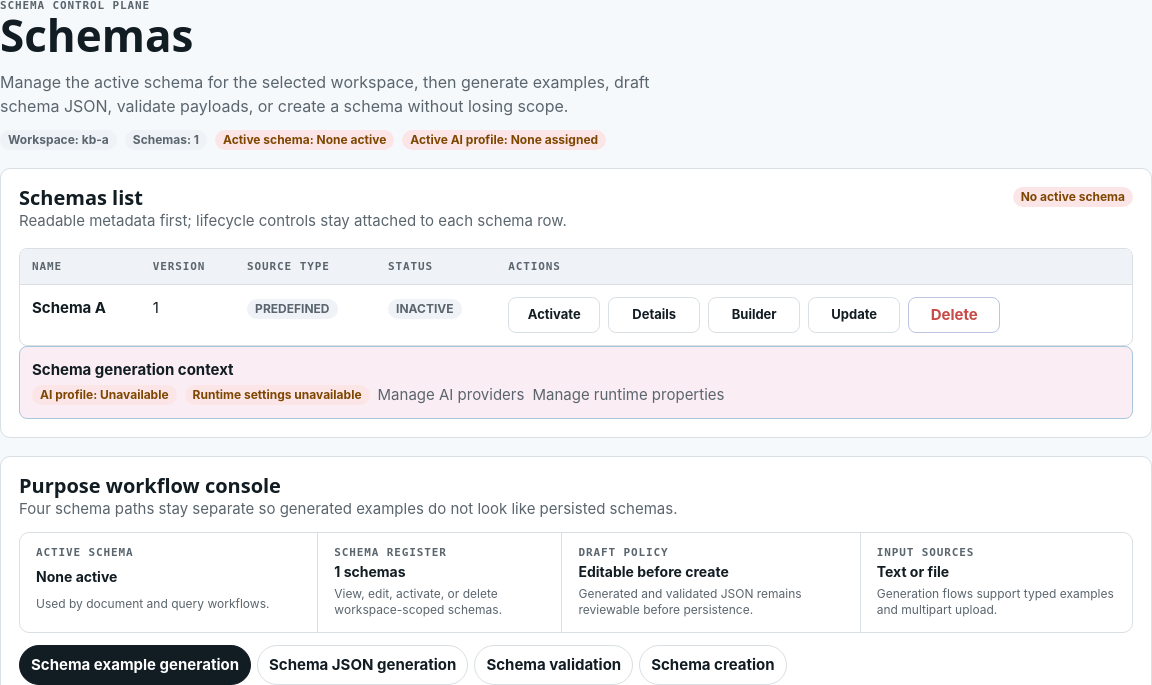
Test: schemas page › shows pending indicator and prevents duplicate activate clicks while request is in flight
Click the button "Activate" at coordinates (554, 315), box x1=508 y1=297 x2=600 y2=333
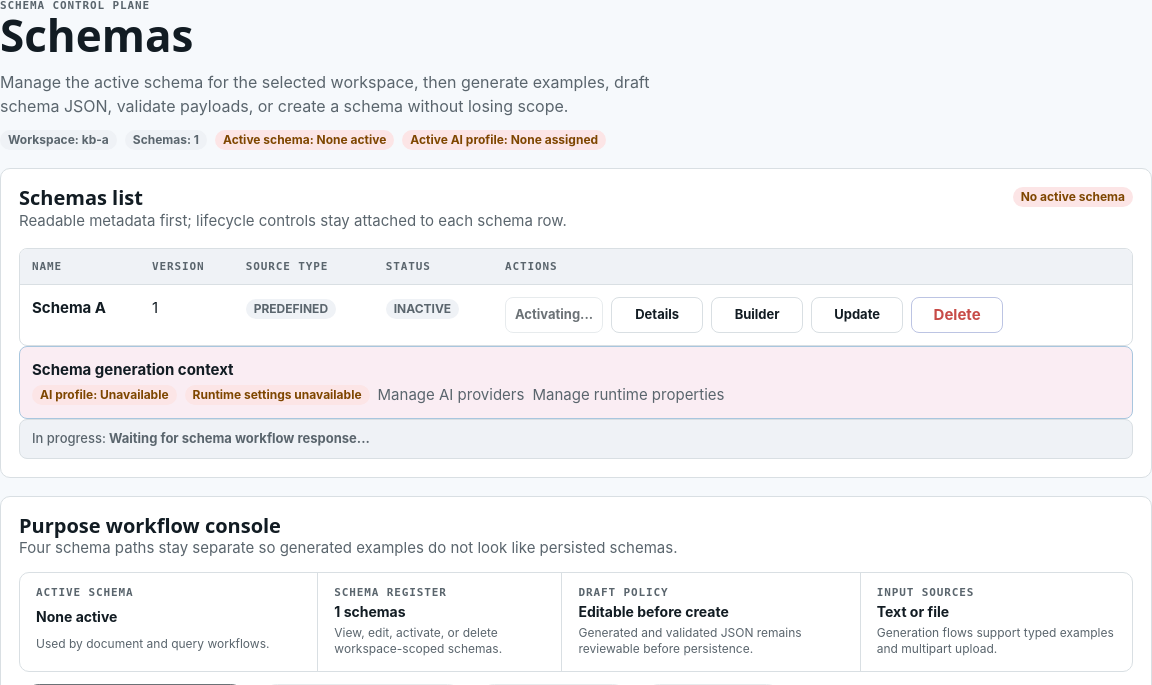
Now the text "In progress: Waiting for schema workflow response..." is shown, box x1=19 y1=419 x2=1133 y2=459
Now the button "Activating..." is disabled
Click the button "Activating..." at coordinates (554, 315), box x1=505 y1=297 x2=603 y2=333
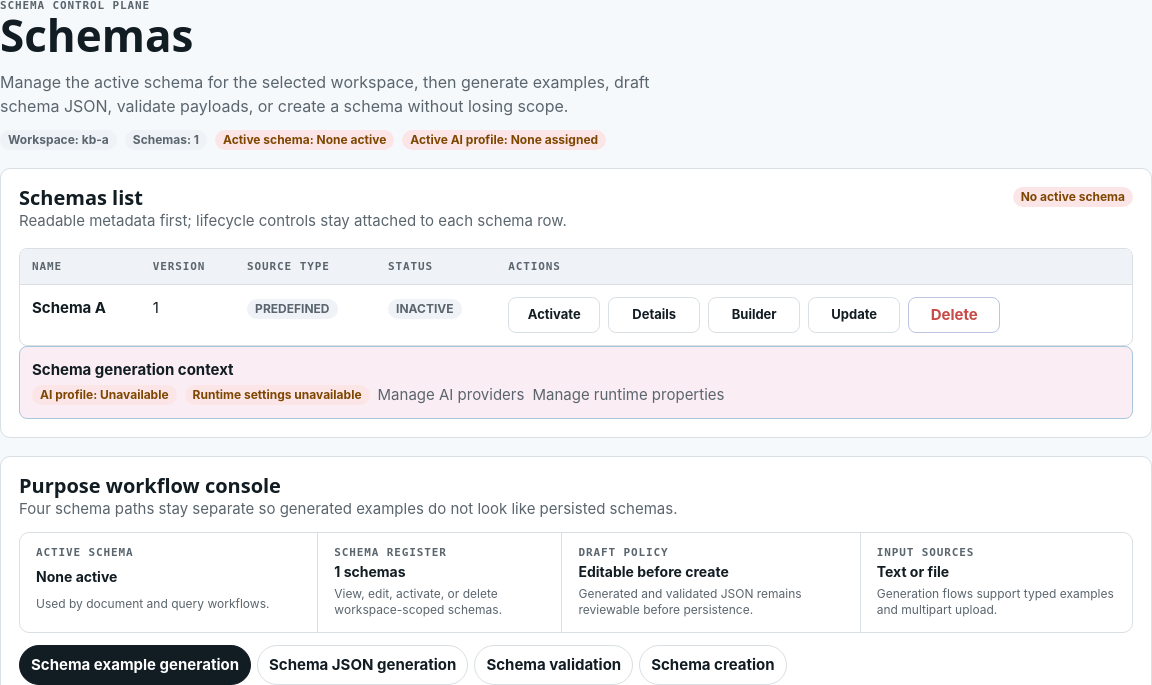
Now the text "Waiting for schema workflow response..." is gone
